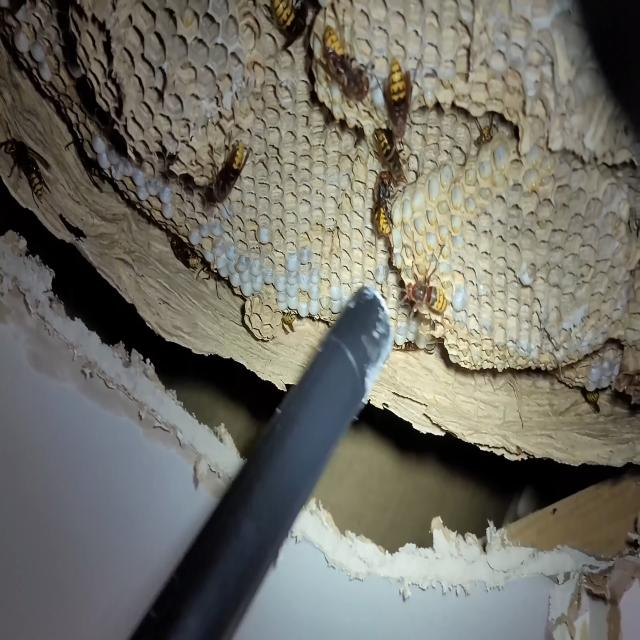Hornets: (312, 7, 371, 103), (373, 54, 423, 150), (395, 245, 449, 323), (0, 133, 52, 210), (201, 131, 250, 203), (368, 167, 398, 251), (165, 226, 202, 277)
